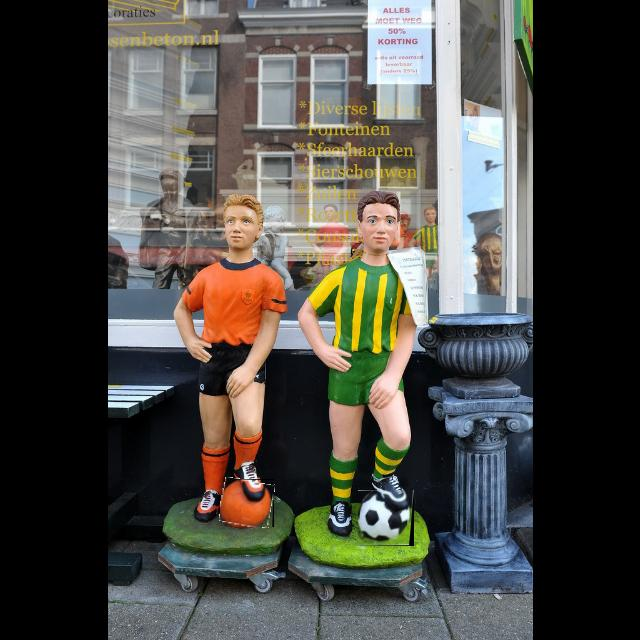Football: (358, 490, 414, 546), (220, 479, 274, 527)
